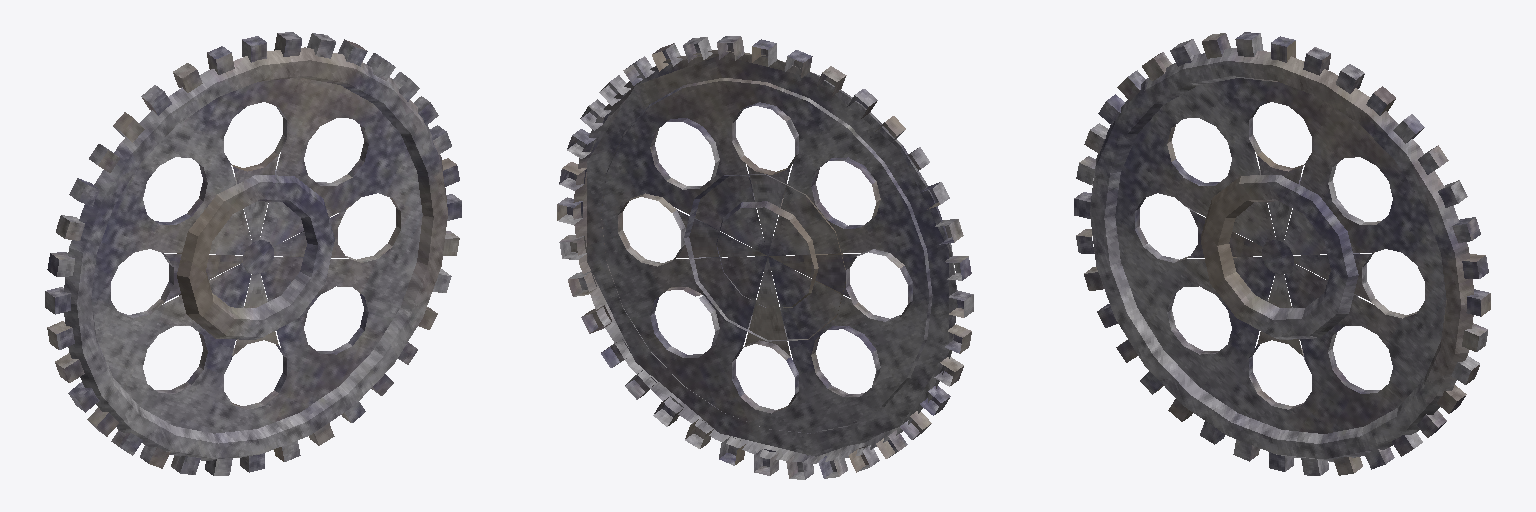
3 renders of one model, left to right at view 1: azimuth 30°, elevation 25°; view 2: azimuth 150°, elevation 25°; view 3: azimuth 330°, elevation 25°, orthographic.
Visible parts, largest first — view 1: Cube.001_Mesh; view 2: Cube.001_Mesh; view 3: Cube.001_Mesh.
Boxes of the visible parts, x1,y1,x2,y2 form: Cube.001_Mesh: [45, 32, 461, 475]; Cube.001_Mesh: [557, 36, 973, 479]; Cube.001_Mesh: [1074, 32, 1490, 475].
Bounding box in the file's own units: 3.13 × 3.13 × 0.1898.
1 materials, 1 textured.